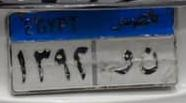1: (16, 47, 28, 86)
2: (72, 45, 90, 83)
3: (32, 47, 52, 83)
9: (54, 46, 71, 82)
noon: (137, 46, 159, 78)
waw: (109, 47, 134, 77)
